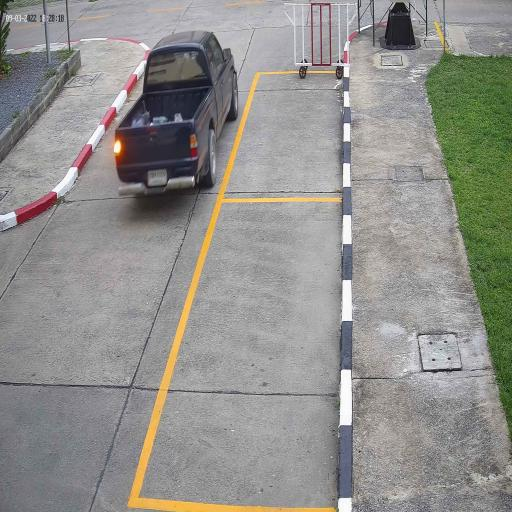car: (115, 30, 239, 198)
